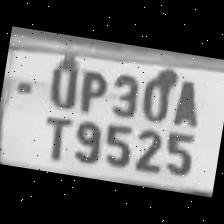0: (133, 64, 176, 122), (40, 54, 82, 112)
2: (128, 123, 165, 175)
3: (103, 66, 143, 120)
5: (158, 124, 200, 178), (98, 116, 136, 169)
9: (66, 115, 105, 165)
A: (167, 74, 208, 130)
P: (73, 62, 112, 115)
T: (32, 109, 74, 163)
